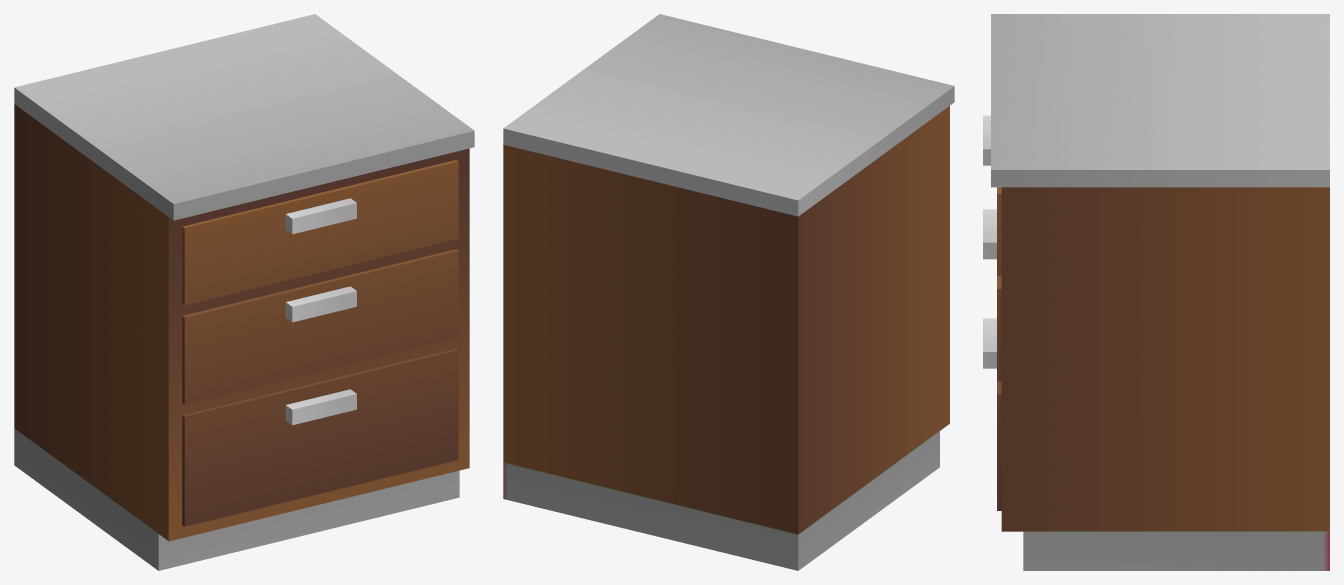
Rendered from Counter2.FBX.
3 renders of one model, left to right at view 1: azimuth 30°, elevation 25°; view 2: azimuth 150°, elevation 25°; view 3: azimuth 270°, elevation 25°, orthographic. The views are drawn at different scales.
Parts seen in each view (by area): view 1: counter2; view 2: counter2; view 3: counter2.
Boxes of the visible parts, left/top/right/bottom form: counter2: left=14, top=14, right=474, bottom=570; counter2: left=503, top=14, right=954, bottom=570; counter2: left=983, top=14, right=1329, bottom=570.
Size of the model in its own units: 70 by 83.96 by 65.78.
1 material, 1 textured.
